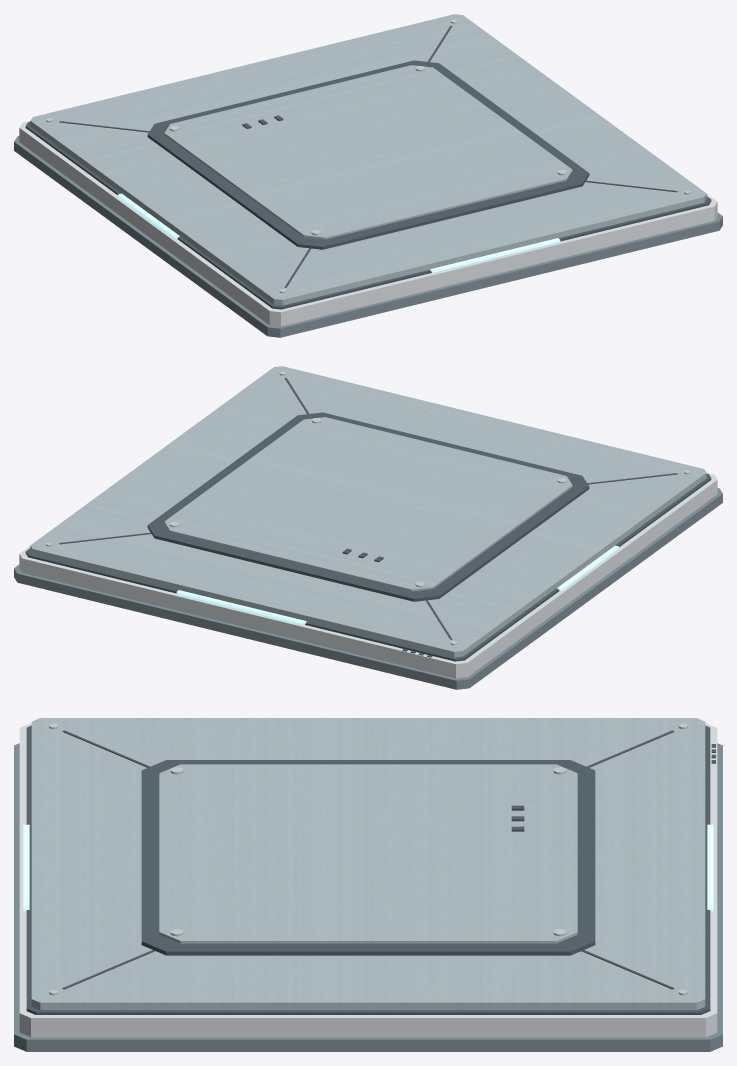
Rendered from m02-metal-service-hatch.glb.
3 views of the same model, one above another, from view 1: azimuth 30°, elevation 25°; view 2: azimuth 150°, elevation 25°; view 3: azimuth 270°, elevation 25° (orthographic). The views are drawn at different scales.
Parts seen in each view (by area): view 1: service-hatch/003, service-hatch/021, service-hatch/001, service-hatch/000, service-hatch/020, service-hatch/002, service-hatch/014; view 2: service-hatch/003, service-hatch/021, service-hatch/001, service-hatch/000, service-hatch/020, service-hatch/002, service-hatch/013; view 3: service-hatch/003, service-hatch/021, service-hatch/001, service-hatch/020, service-hatch/000, service-hatch/002, service-hatch/013, service-hatch/014.
Boxes of the visible parts, x1,y1,x2,y2 form: service-hatch/003: [30, 14, 706, 305]; service-hatch/021: [164, 65, 572, 239]; service-hatch/001: [19, 121, 717, 326]; service-hatch/000: [14, 136, 722, 337]; service-hatch/020: [147, 60, 589, 249]; service-hatch/002: [25, 121, 711, 309]; service-hatch/014: [430, 238, 560, 272]; service-hatch/003: [30, 366, 706, 657]; service-hatch/021: [164, 417, 572, 591]; service-hatch/001: [19, 473, 717, 678]; service-hatch/000: [14, 488, 722, 689]; service-hatch/020: [147, 412, 589, 601]; service-hatch/002: [25, 473, 711, 661]; service-hatch/013: [176, 590, 306, 624]; service-hatch/003: [31, 718, 705, 1010]; service-hatch/021: [159, 764, 577, 943]; service-hatch/001: [19, 723, 717, 1037]; service-hatch/020: [141, 760, 595, 955]; service-hatch/000: [14, 743, 722, 1051]; service-hatch/002: [26, 725, 710, 1014]; service-hatch/013: [707, 824, 713, 911]; service-hatch/014: [23, 824, 29, 911].
Size of the model in its own units: 1 by 0.08 by 1.
6 materials, 1 textured.
